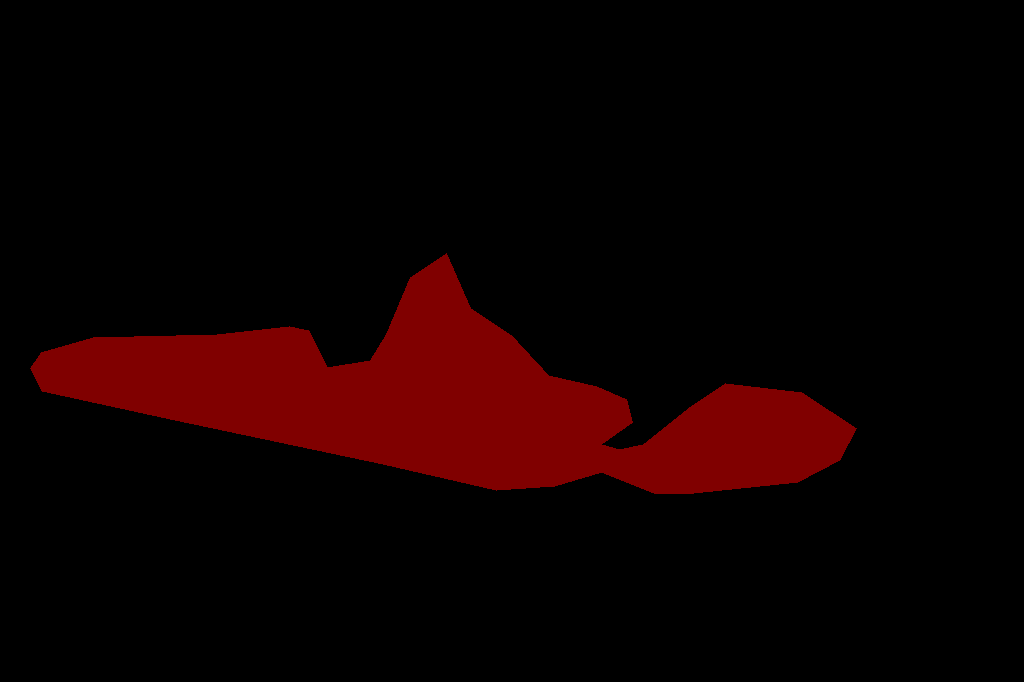fire: (30, 253, 856, 493)
